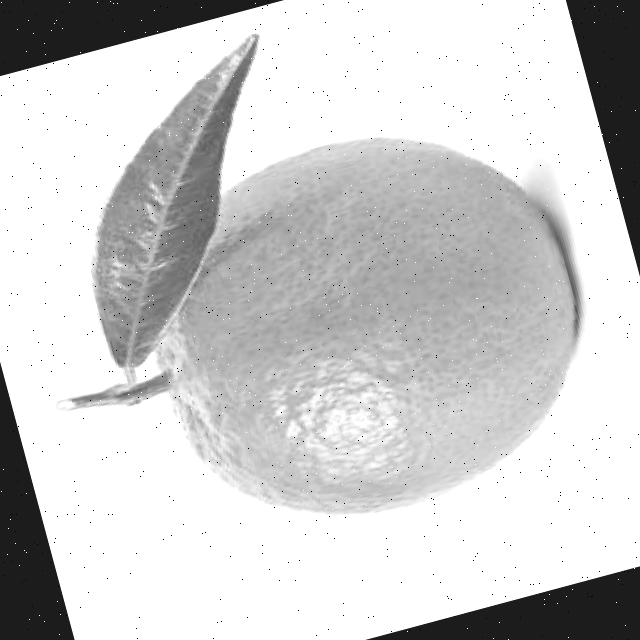orange: (112, 91, 620, 564)
